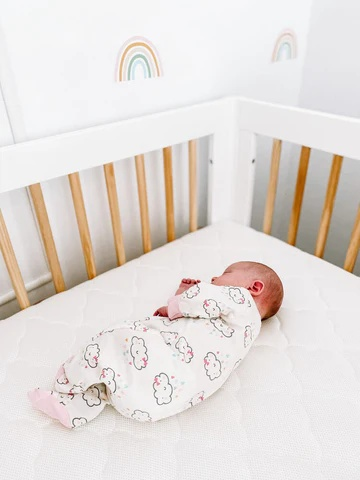baby: (29, 262, 282, 427)
crib: (0, 97, 359, 478)
